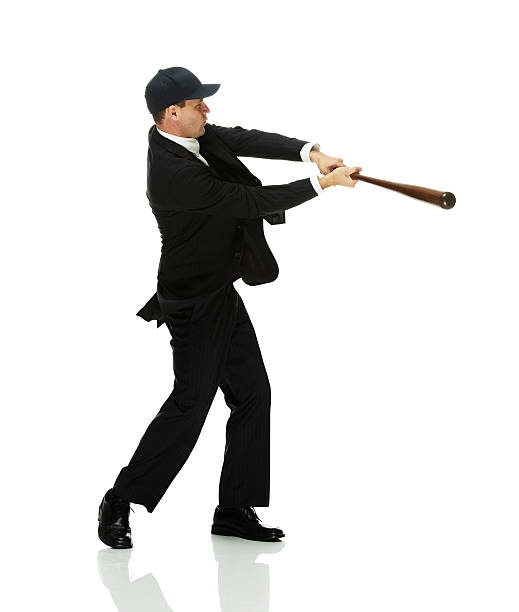bita: (342, 165, 457, 211)
